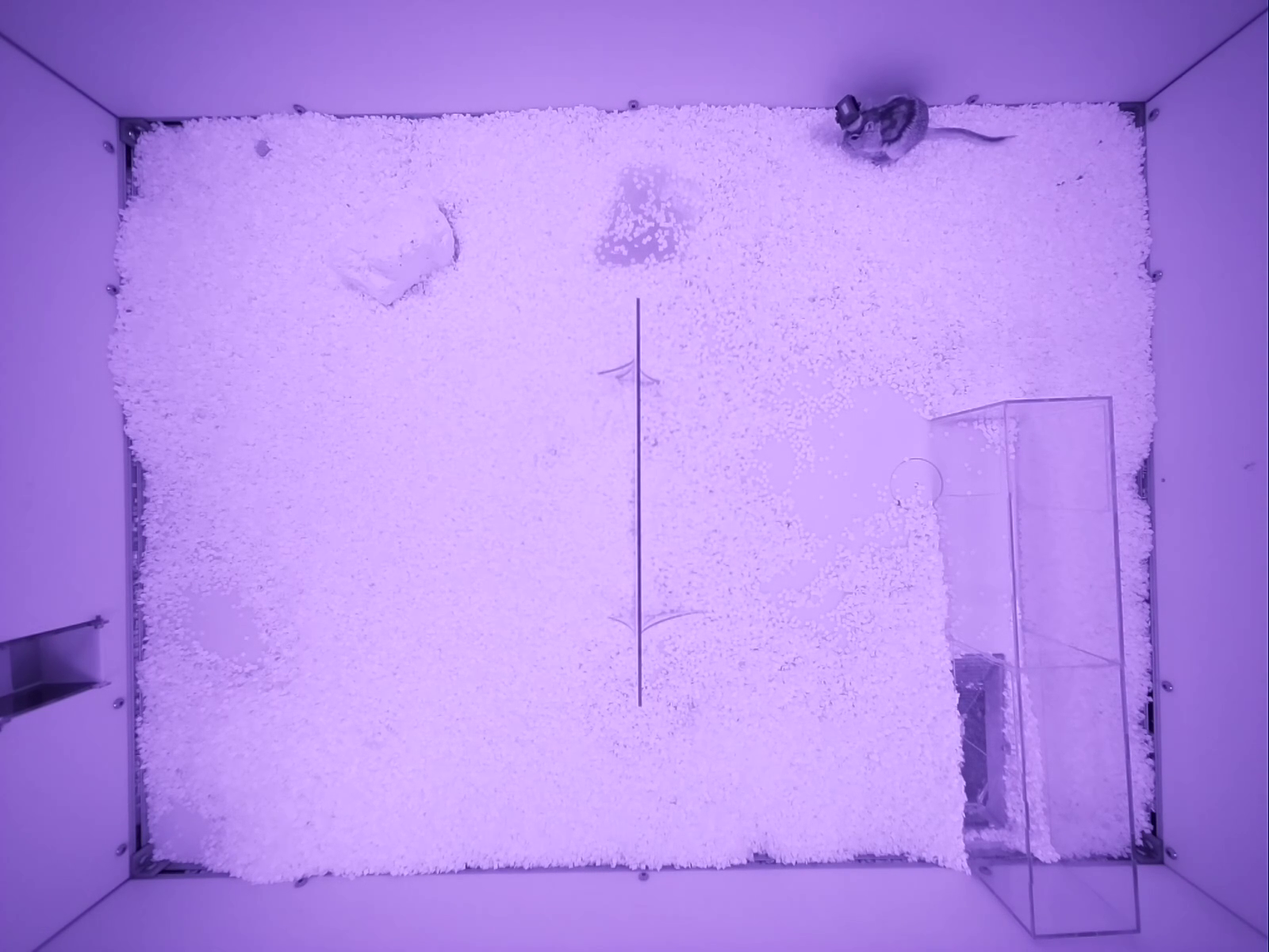adult_back: (836, 94, 1010, 164)
